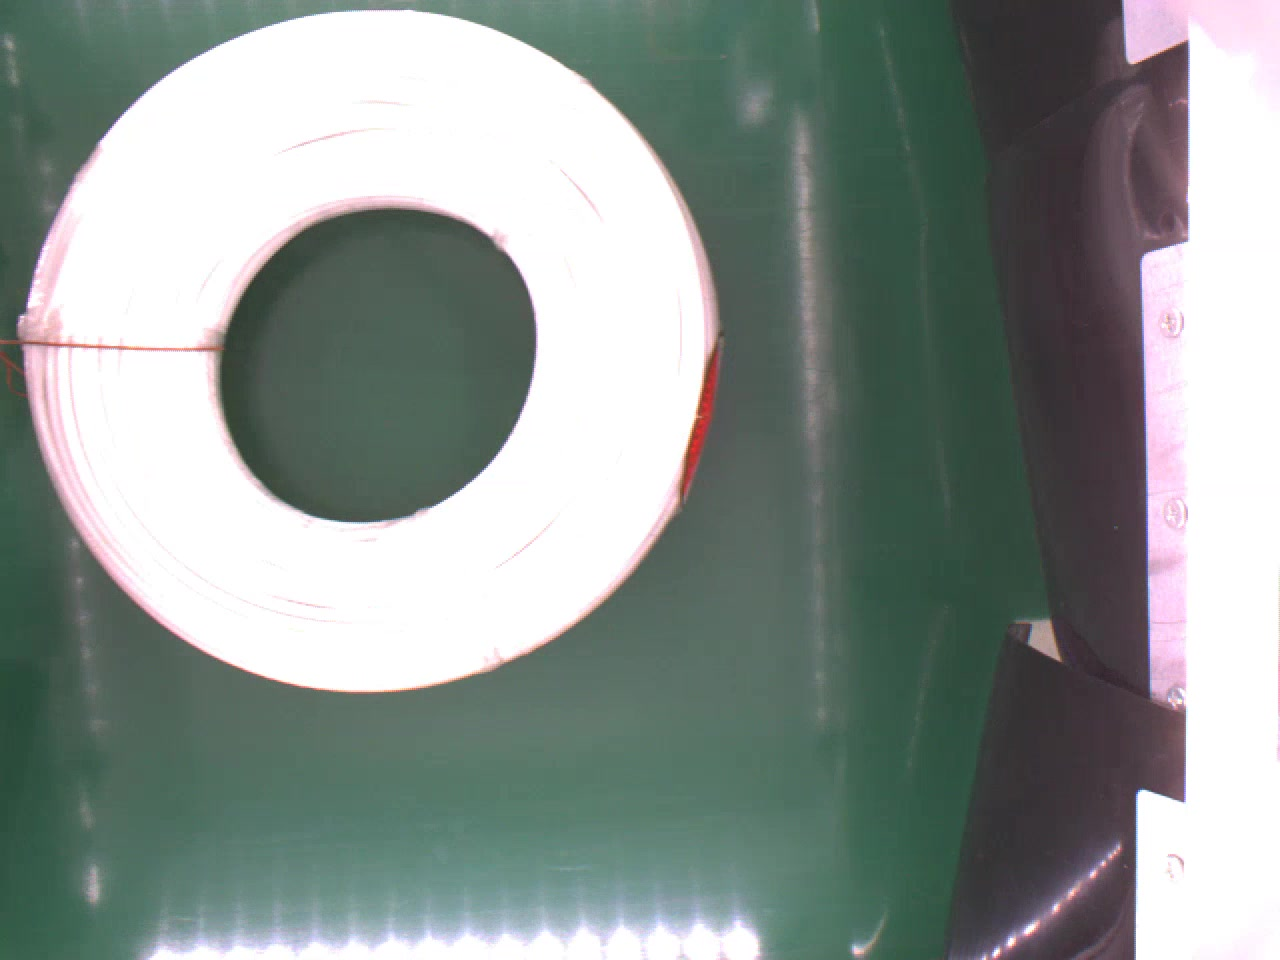white: (23, 9, 726, 681)
